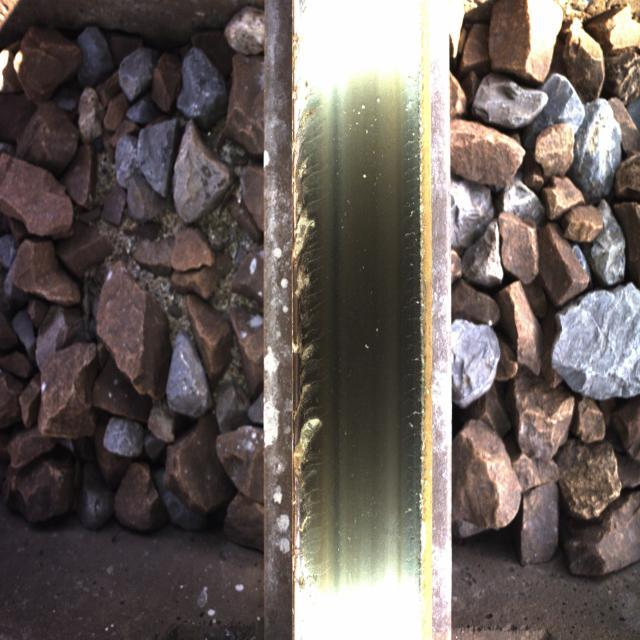crack: (287, 38, 355, 590)
